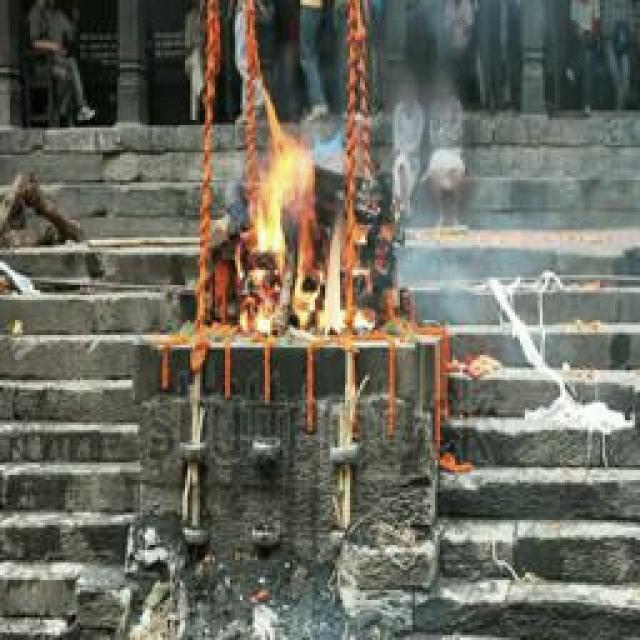Fire: (231, 122, 370, 349)
